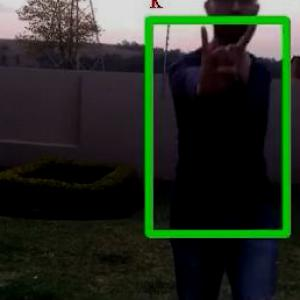takeoff-hand: (194, 19, 256, 87)
